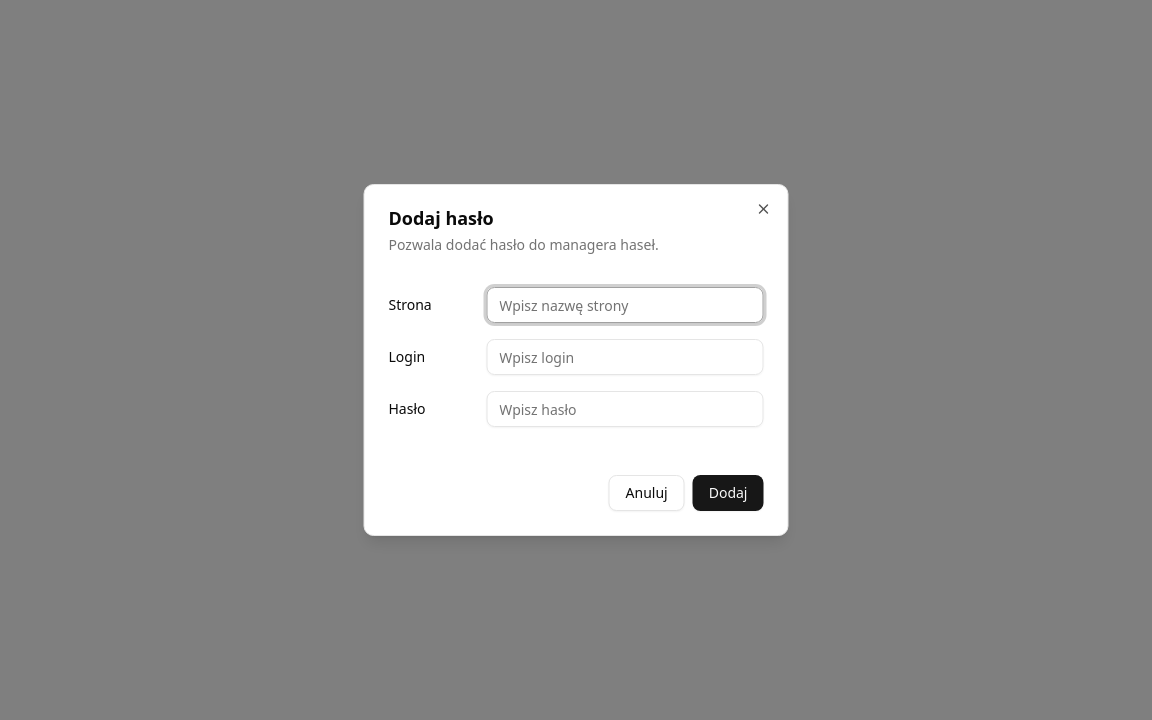
Test: Komponent AddPasswordDialog › wyświetla błąd, gdy pole strony jest puste
Click the button "Dodaj" at (728, 493), box [693,475,764,511]
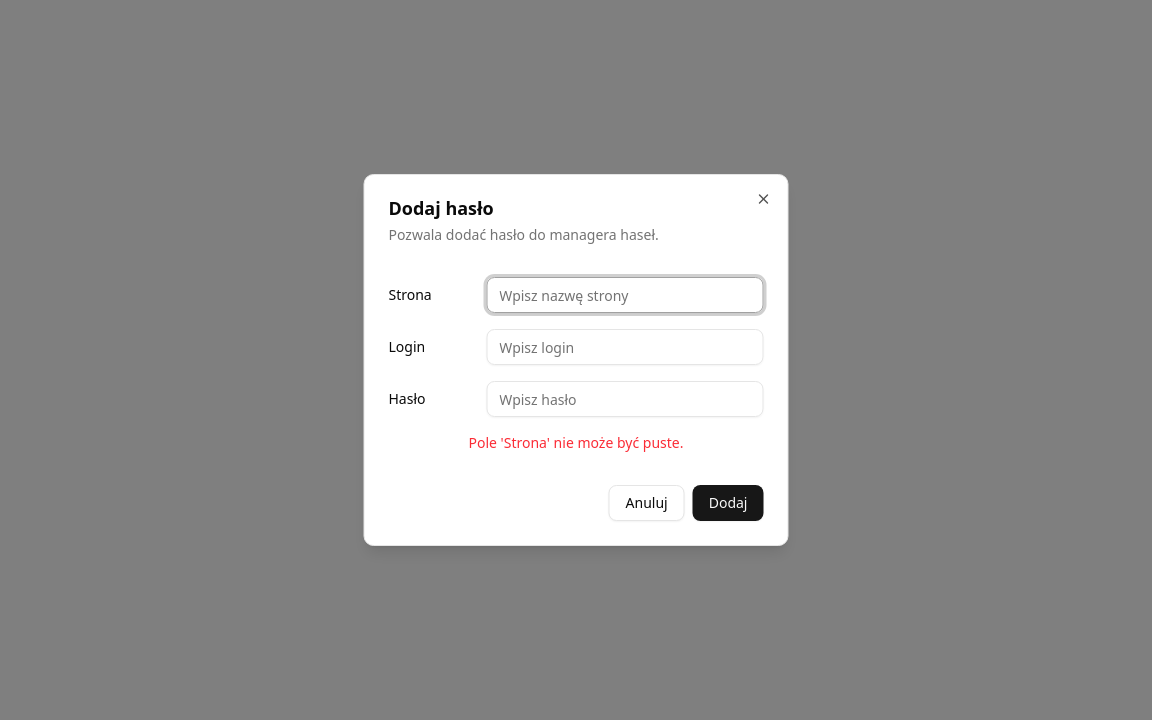
Result: the text "Pole 'Strona' nie może być puste." is shown at [468,433,684,452]
